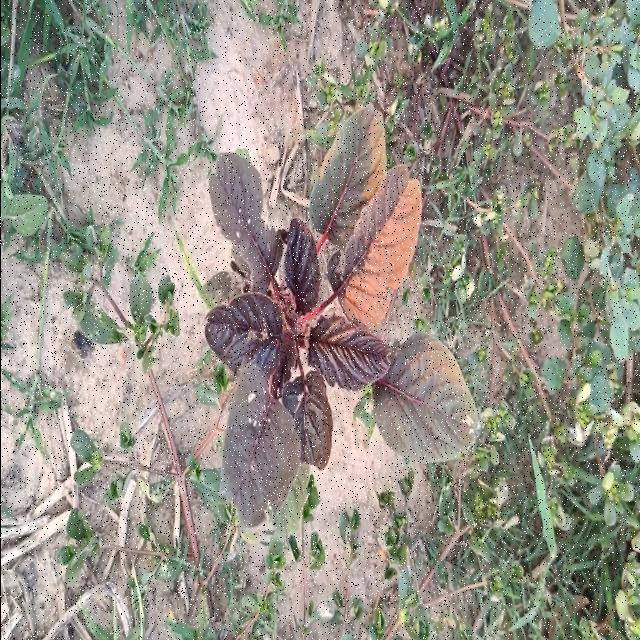plant: (204, 106, 478, 528)
